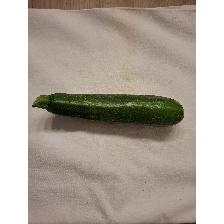Zucchini: (31, 88, 188, 128)
